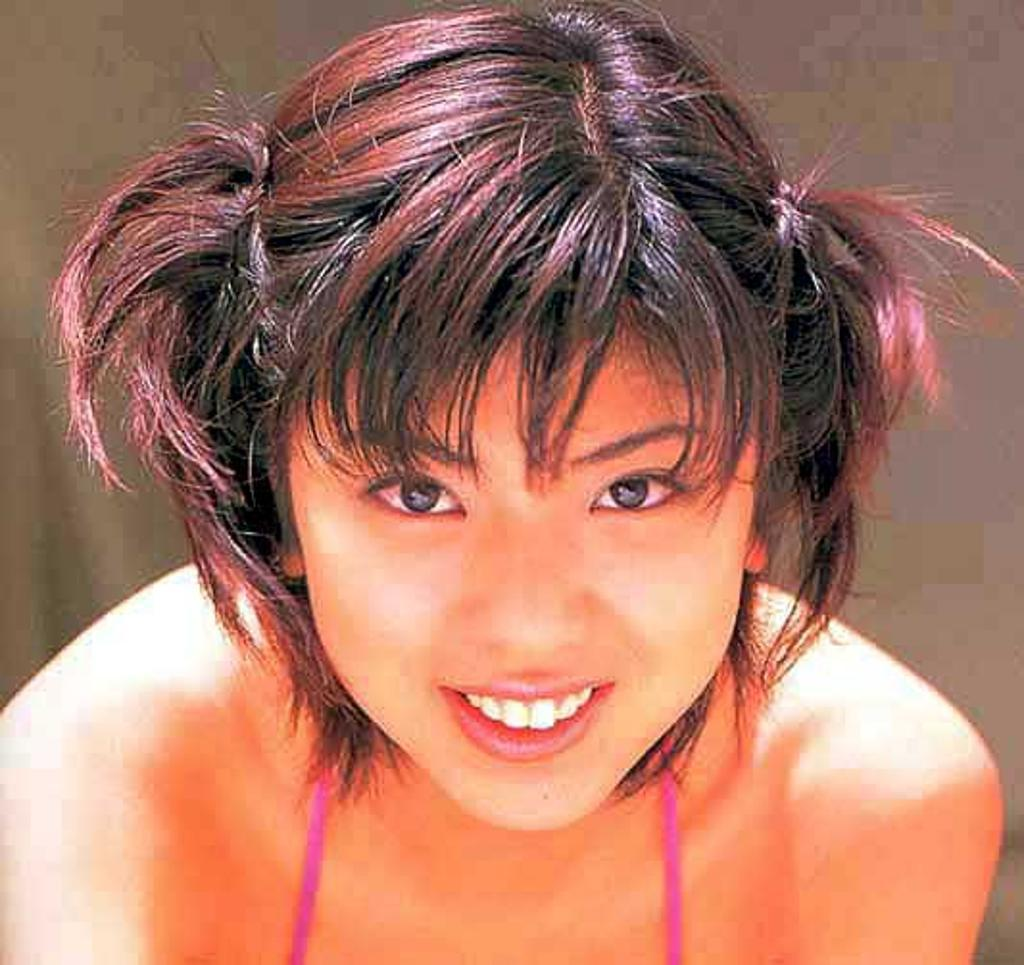face: (285, 281, 747, 827)
